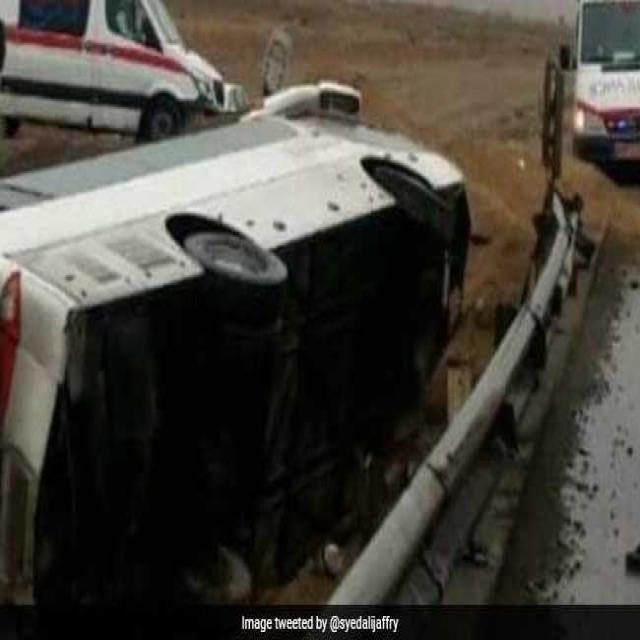accident: (0, 83, 471, 609)
emergency: (0, 0, 246, 139)
